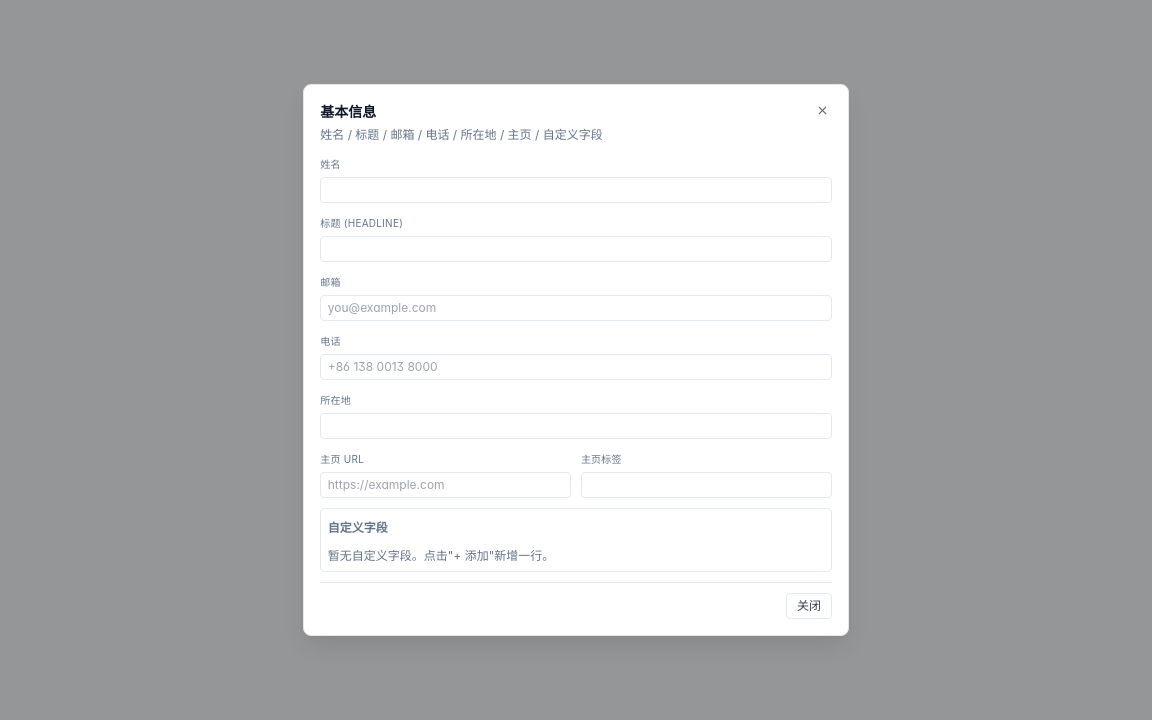
Test: BasicsDialog (AC-02, AC-04, AC-08c, AC-09, AC-02b) › invalid phone is rejected on blur with toast (AC-02b)
Type "abc!!!" into the field with test id "basics-phone". click: (576, 367)
box: [320,354,832,380]
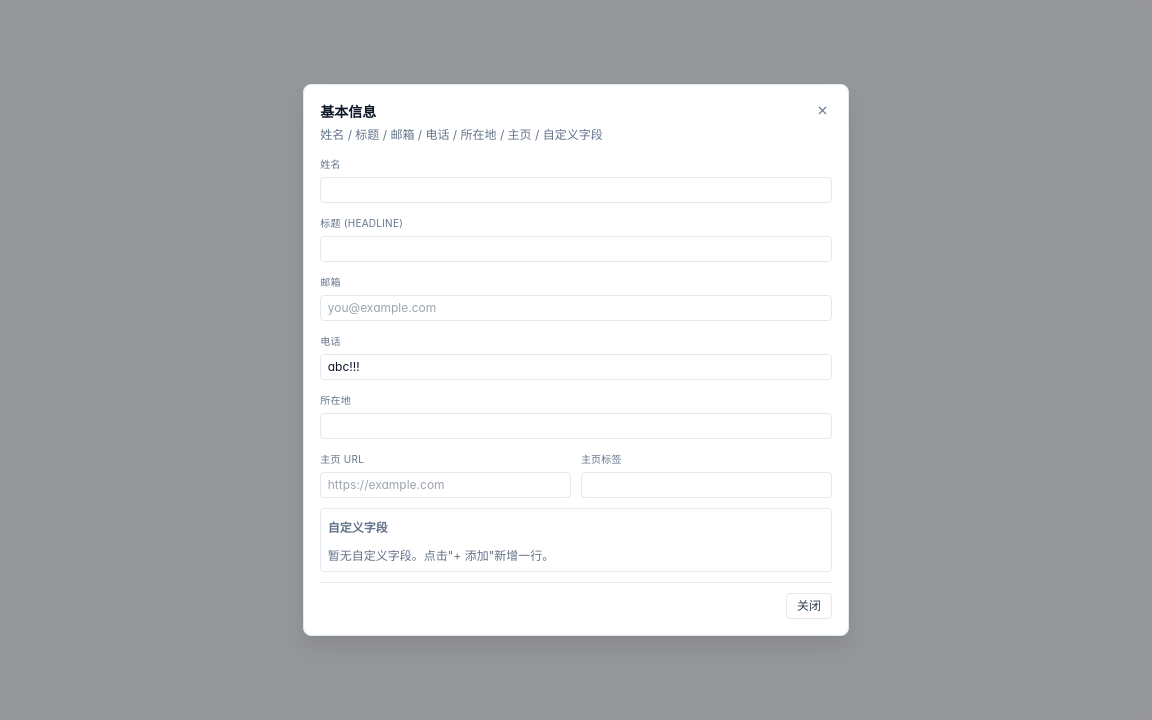
Leave the field with test id "basics-phone", box [320,354,832,380]
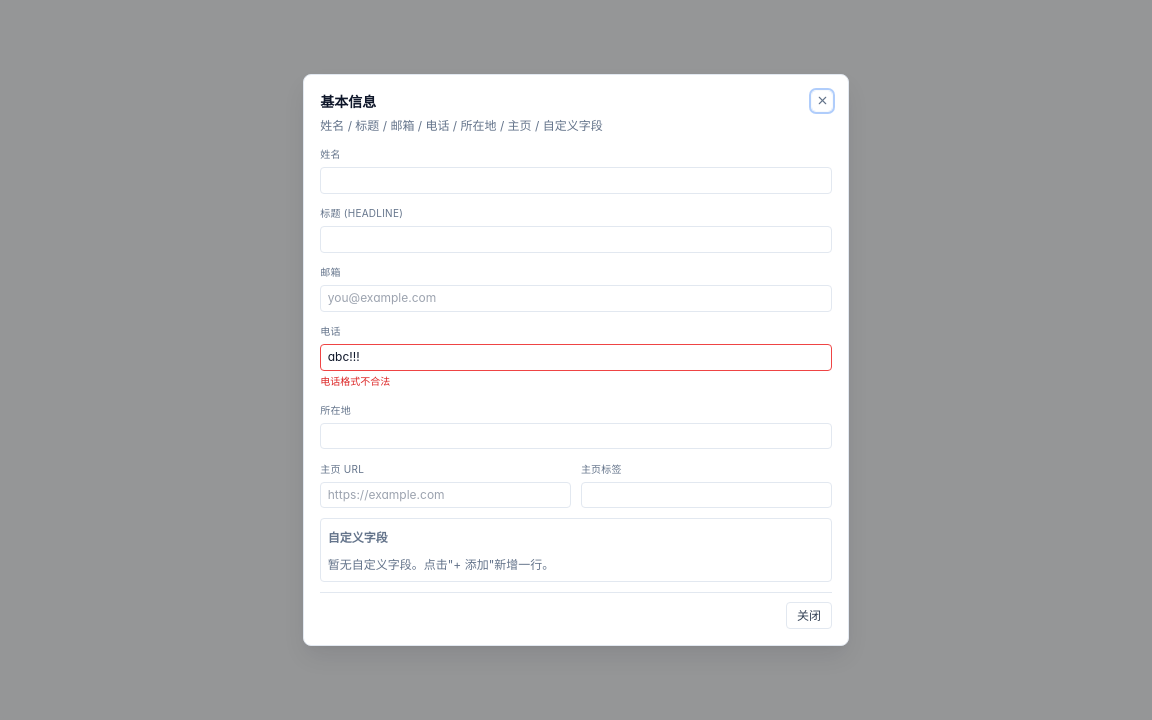
Check: the message "电话格式不合法" is shown, box [320,375,390,387]
